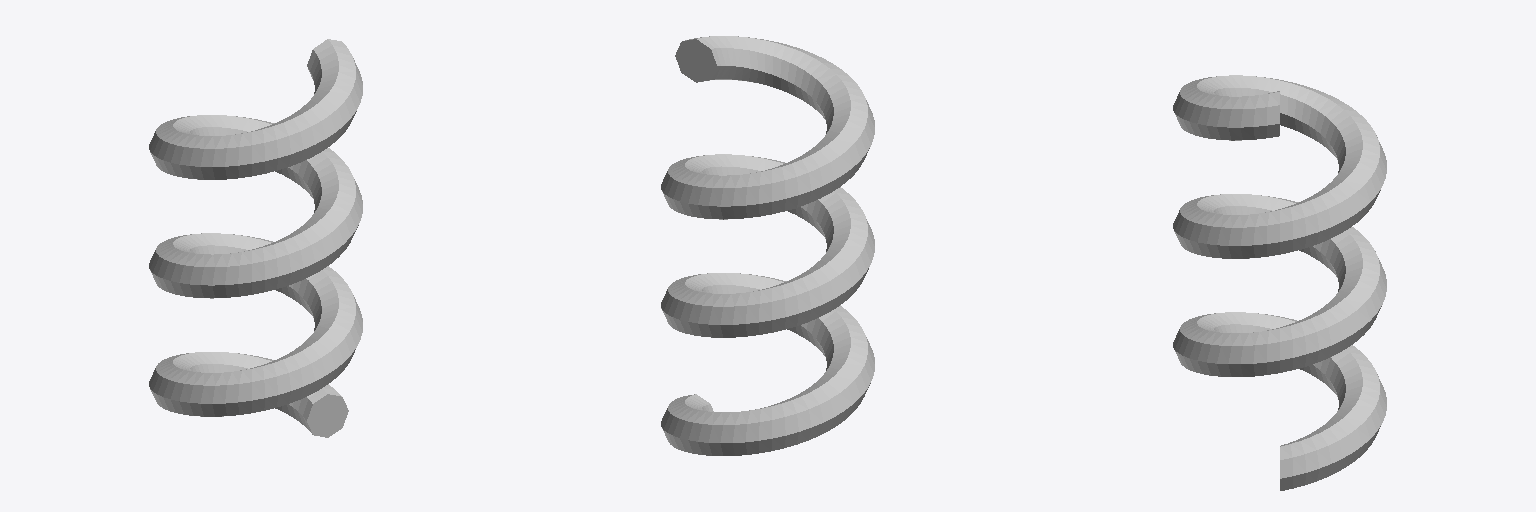
Rendered from Helix.obj.
3 renders of one model, left to right at view 1: azimuth 30°, elevation 25°; view 2: azimuth 150°, elevation 25°; view 3: azimuth 270°, elevation 25°, orthographic.
Size of the model in its own units: 3.54 by 7.26 by 3.53.